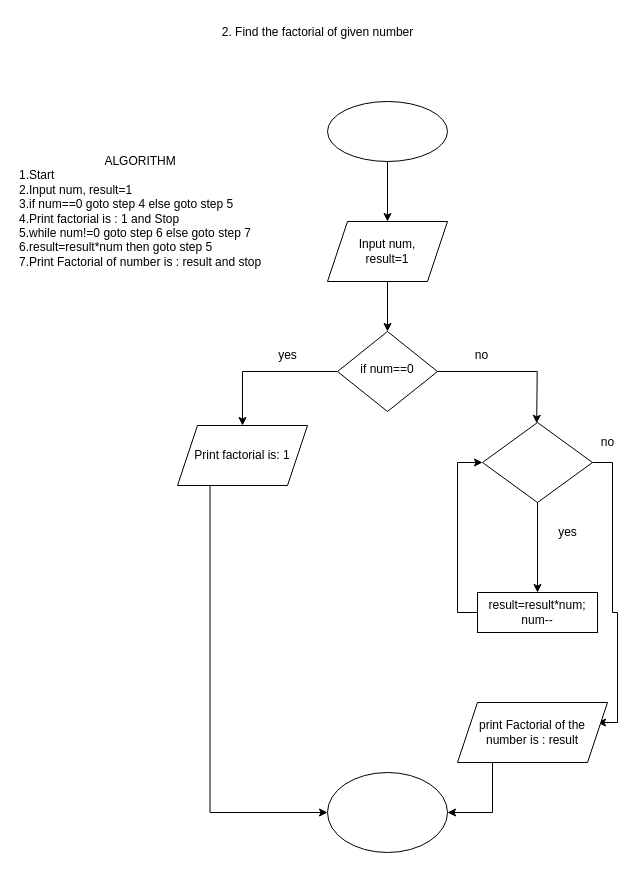
This 644x870 diagram has some shape labels left out. The box of each missing label's shape, as (x1, y1, x2, y2) in pixels:
Start: (326, 100, 448, 162)
Stop: (326, 772, 448, 852)
while num!=0: (482, 422, 592, 502)
